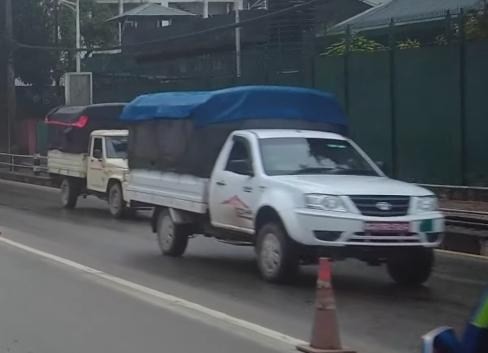transport_vehicle: (119, 79, 444, 299), (45, 97, 157, 225)
